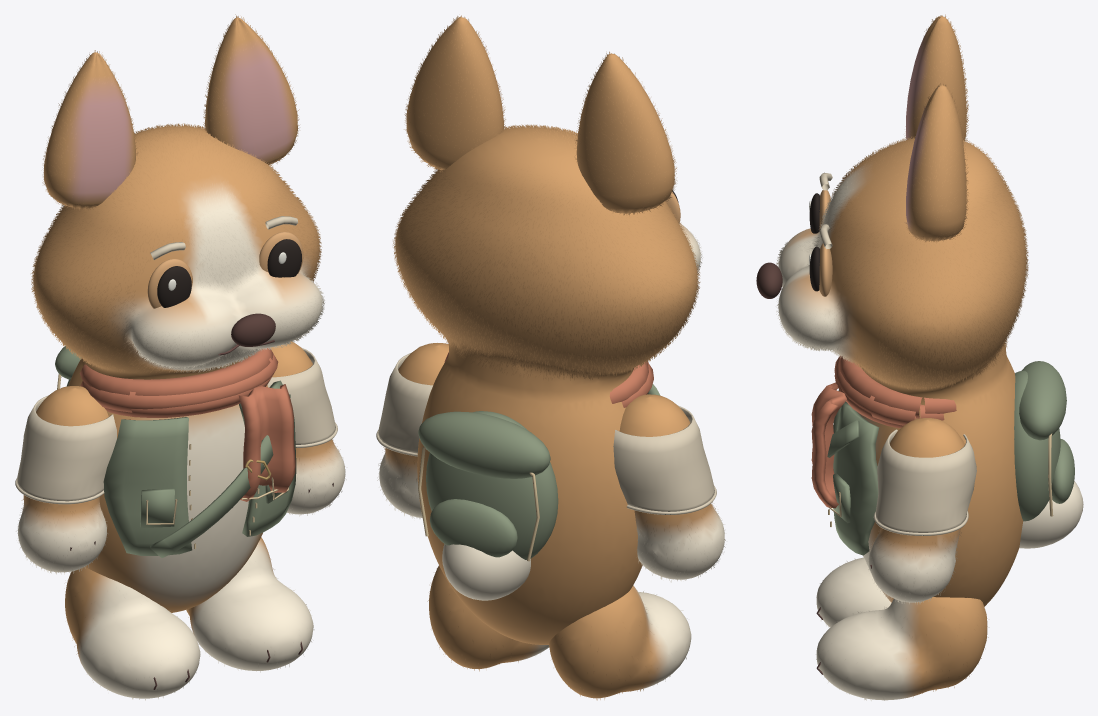
File: corgi_softtoy.glb
3 views of the same model, side by side, from view 1: azimuth 30°, elevation 25°; view 2: azimuth 150°, elevation 25°; view 3: azimuth 270°, elevation 25° (orthographic). The views are drawn at different scales.
Visible parts, largest first — view 1: ContinuousSculptBody, SculptFaceAndClothing, PhysicalShortFur, ClothedPalm_L, Paw_L, PlushEar_L, Paw_R, PlushEar_R, ClothedPalm_R, ScarfTailWoven, EyeSurface_L, EyeSurface_R (+2 smaller); view 2: ContinuousSculptBody, SculptFaceAndClothing, PhysicalShortFur, ClothedPalm_L, PlushEar_L, Paw_L, PlushEar_R, ClothedPalm_R, Paw_R, PhysicalShortFur.003, PhysicalShortFur.006; view 3: ContinuousSculptBody, SculptFaceAndClothing, ClothedPalm_R, Paw_R, PhysicalShortFur, PlushEar_R, PlushEar_L, Paw_L, ScarfTailWoven, PhysicalShortFur.006, PhysicalShortFur.003, PhysicalShortFur.004.
Part boxes in pixels (<box>): ContinuousSculptBody: <box>33,126,322,612</box>; SculptFaceAndClothing: <box>55,216,303,557</box>; PhysicalShortFur: <box>31,123,324,372</box>; ClothedPalm_L: <box>15,386,116,572</box>; Paw_L: <box>65,567,200,698</box>; PlushEar_L: <box>44,52,135,208</box>; Paw_R: <box>186,537,313,671</box>; PlushEar_R: <box>205,17,297,164</box>; ClothedPalm_R: <box>267,341,345,514</box>; ScarfTailWoven: <box>238,384,295,501</box>; EyeSurface_L: <box>157,266,191,307</box>; EyeSurface_R: <box>267,239,301,277</box>; ContinuousSculptBody: <box>395,127,700,644</box>; SculptFaceAndClothing: <box>418,179,680,600</box>; PhysicalShortFur: <box>393,124,702,380</box>; ClothedPalm_L: <box>613,394,724,579</box>; PlushEar_L: <box>576,53,674,213</box>; Paw_L: <box>549,585,691,698</box>; PlushEar_R: <box>406,16,503,170</box>; ClothedPalm_R: <box>376,343,448,517</box>; Paw_R: <box>429,566,549,668</box>; PhysicalShortFur.003: <box>575,51,676,215</box>; PhysicalShortFur.006: <box>404,15,506,171</box>; ContinuousSculptBody: <box>778,138,1026,606</box>; SculptFaceAndClothing: <box>756,172,1083,555</box>; ClothedPalm_R: <box>869,418,976,602</box>; Paw_R: <box>816,597,987,700</box>; PhysicalShortFur: <box>776,136,1028,389</box>; PlushEar_R: <box>906,85,966,240</box>; PlushEar_L: <box>906,16,966,140</box>; Paw_L: <box>816,557,891,627</box>; ScarfTailWoven: <box>811,382,846,508</box>; PhysicalShortFur.006: <box>904,83,968,242</box>; PhysicalShortFur.003: <box>905,14,968,140</box>; PhysicalShortFur.004: <box>868,531,961,604</box>.
Bounding box in the file's own units: 1.57 × 2.91 × 1.4.
